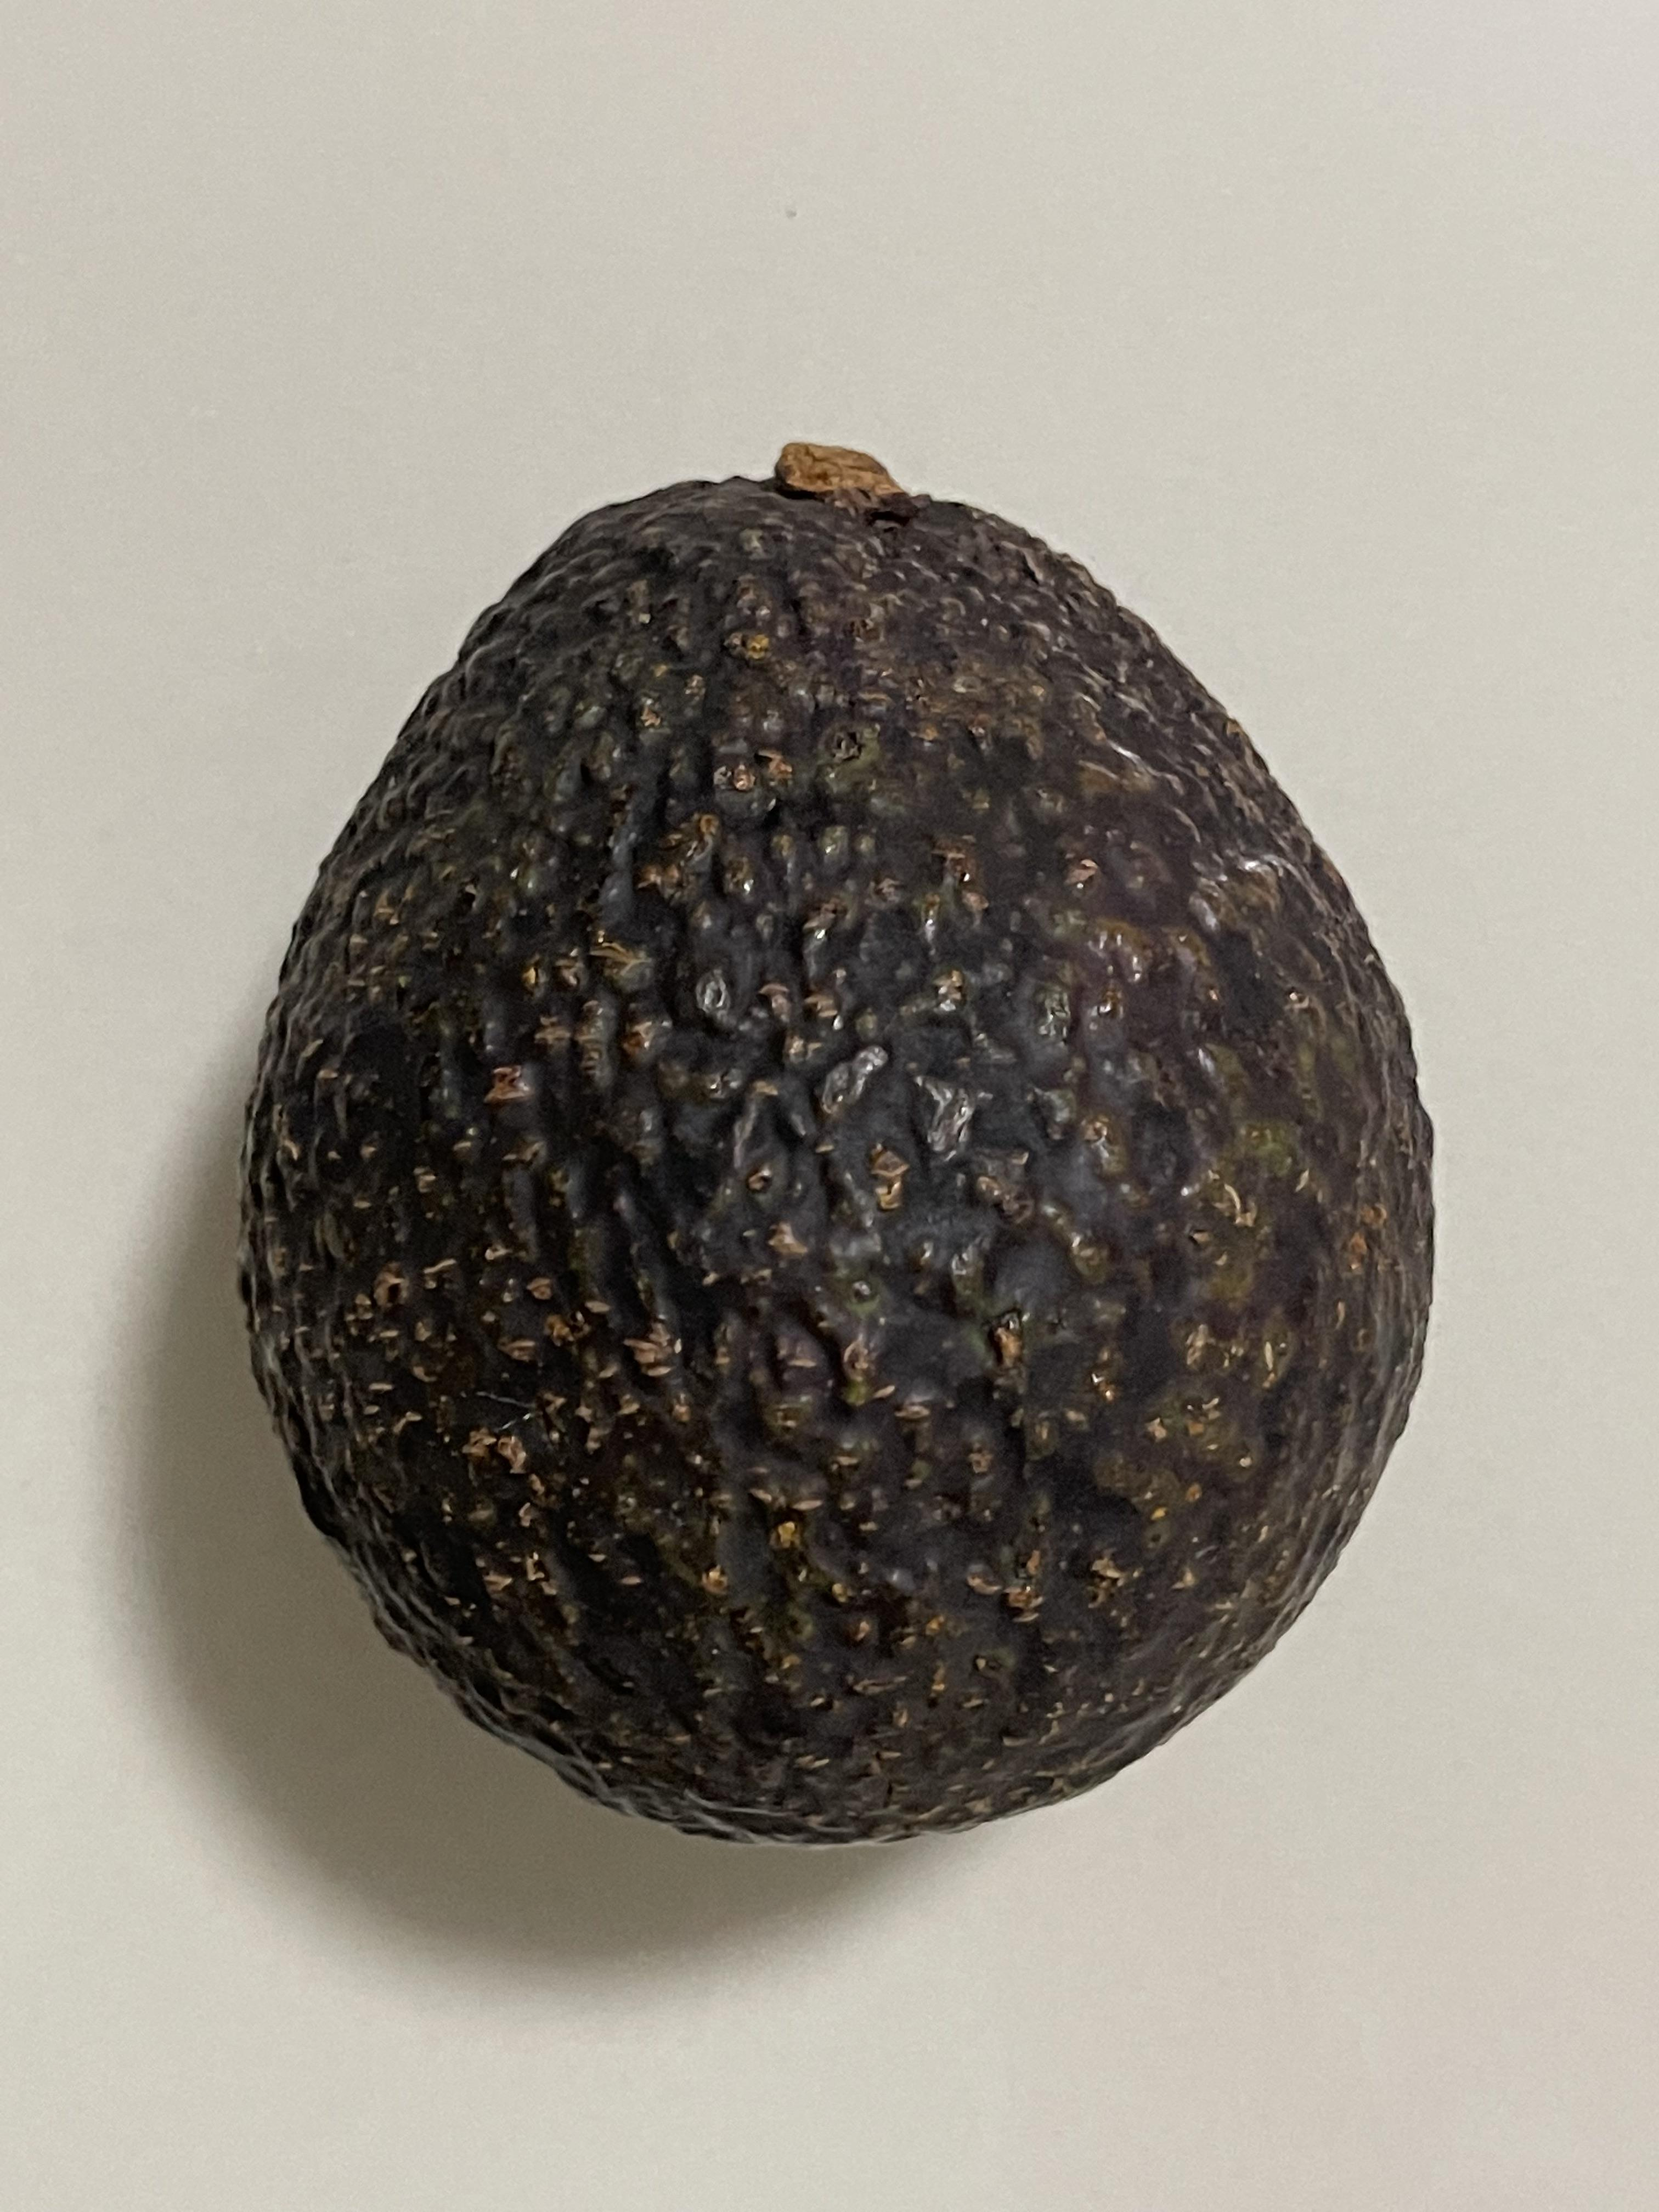Level2: (225, 428, 1453, 1867)
